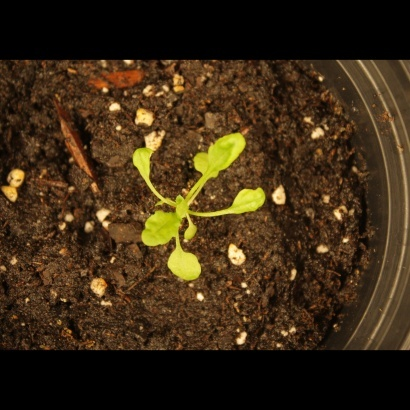leaf: (206, 130, 249, 175), (134, 208, 180, 250), (160, 247, 205, 287), (228, 181, 272, 216), (126, 143, 163, 182), (189, 150, 221, 185), (182, 221, 205, 244)
